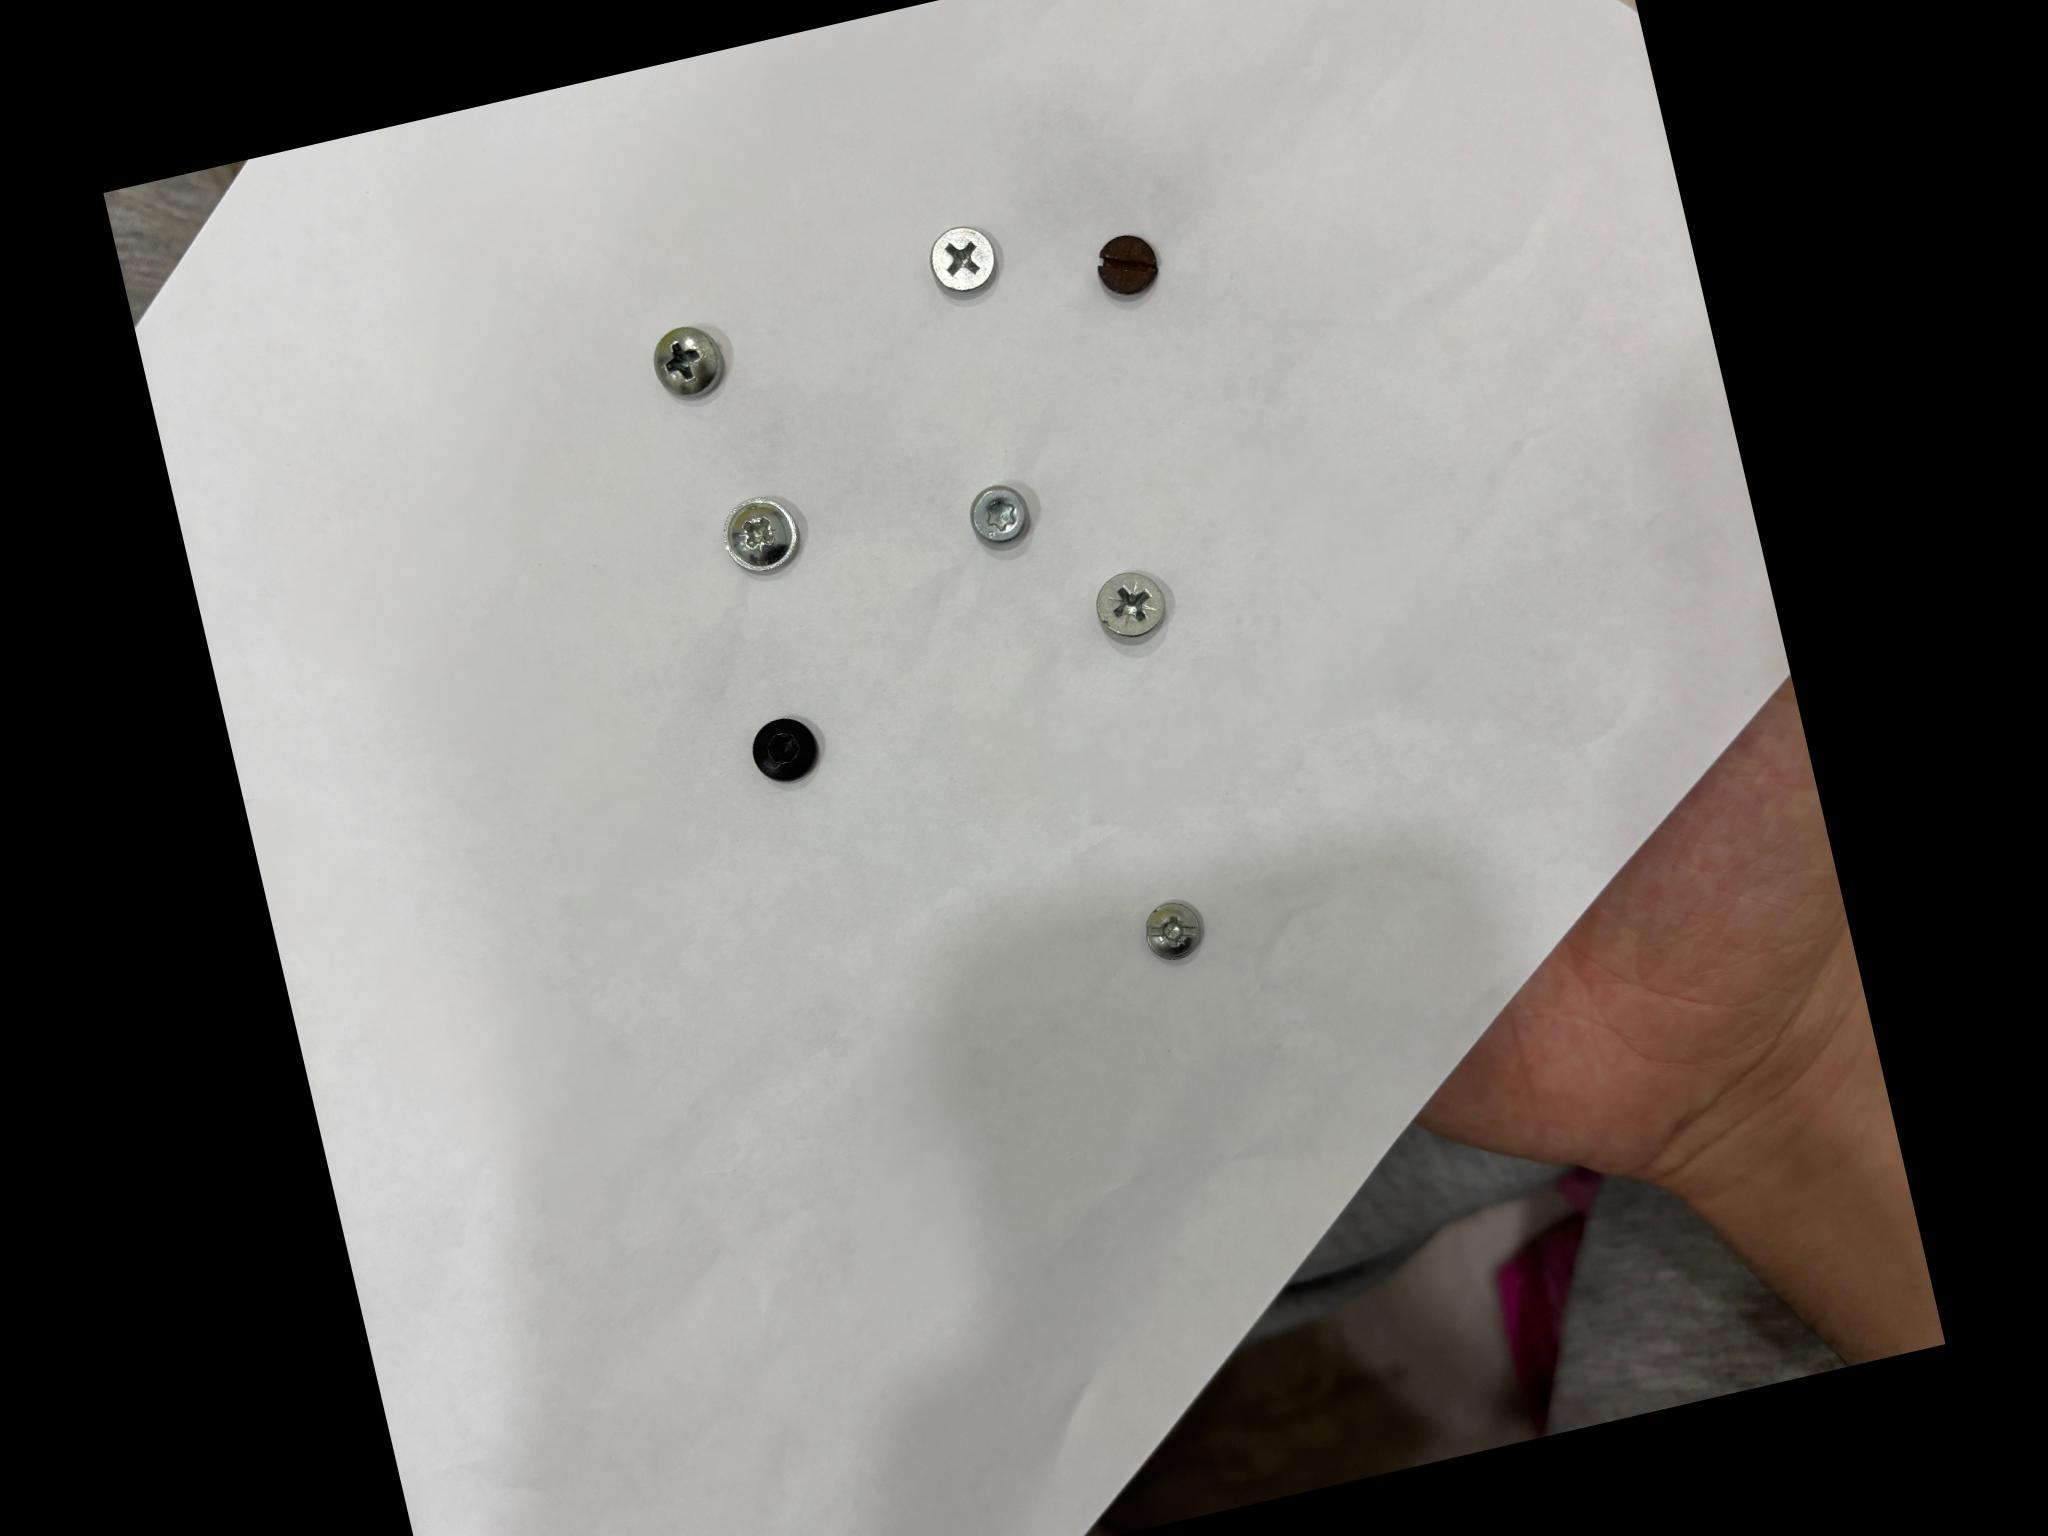H: (753, 716, 816, 779)
PH: (653, 326, 722, 397), (930, 226, 995, 290)
PZ: (722, 497, 798, 573), (1097, 571, 1164, 634), (1145, 900, 1201, 958)
T: (969, 484, 1027, 544)
